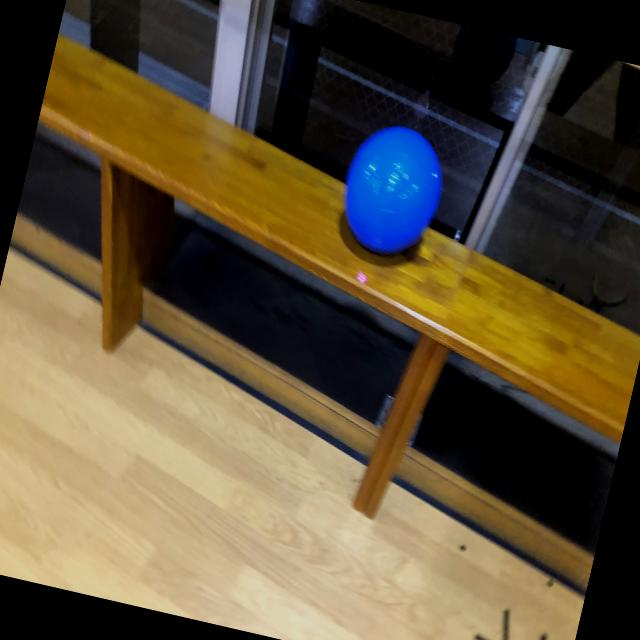blue_ball: (336, 118, 452, 268)
